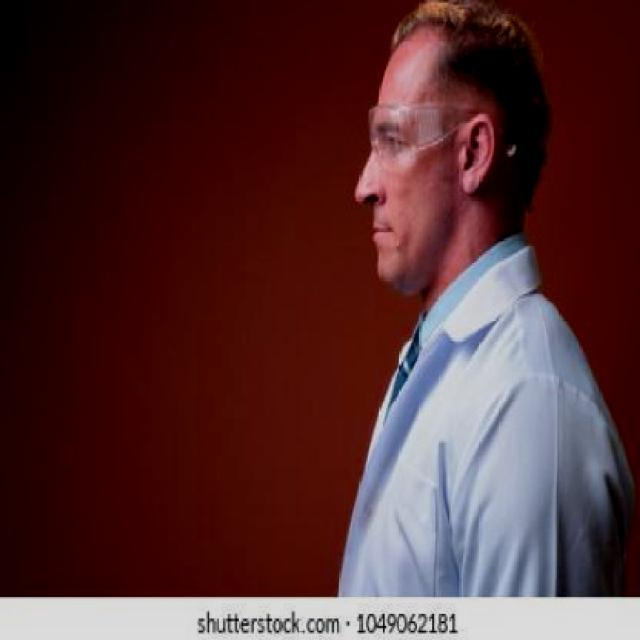face_nomask: (350, 108, 424, 260)
glasses: (364, 96, 518, 170)
head_nohelmet: (366, 0, 546, 82)
person: (340, 5, 615, 600)
